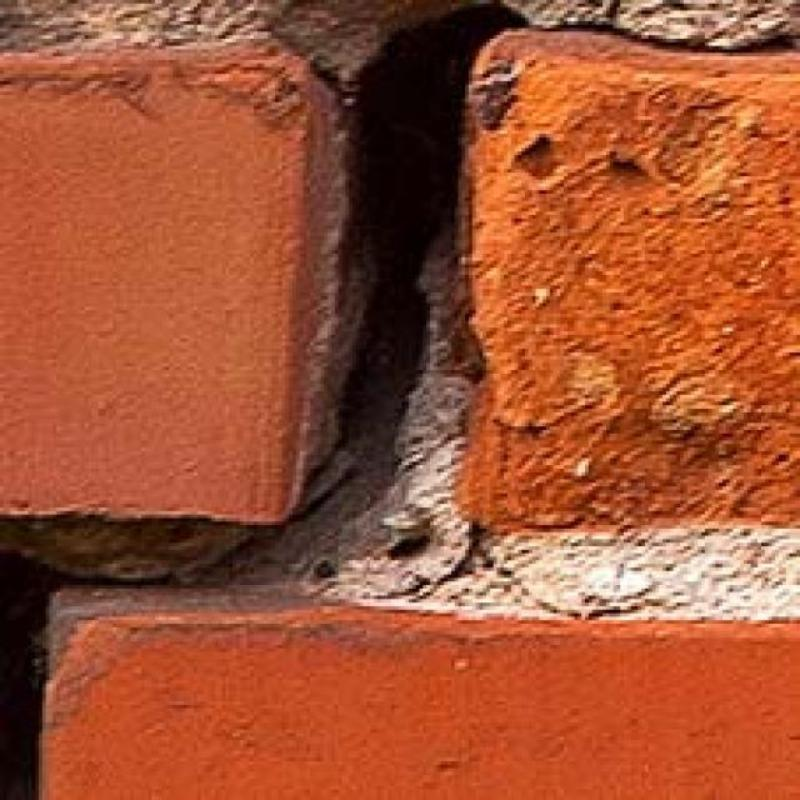crack: (0, 5, 799, 799)
